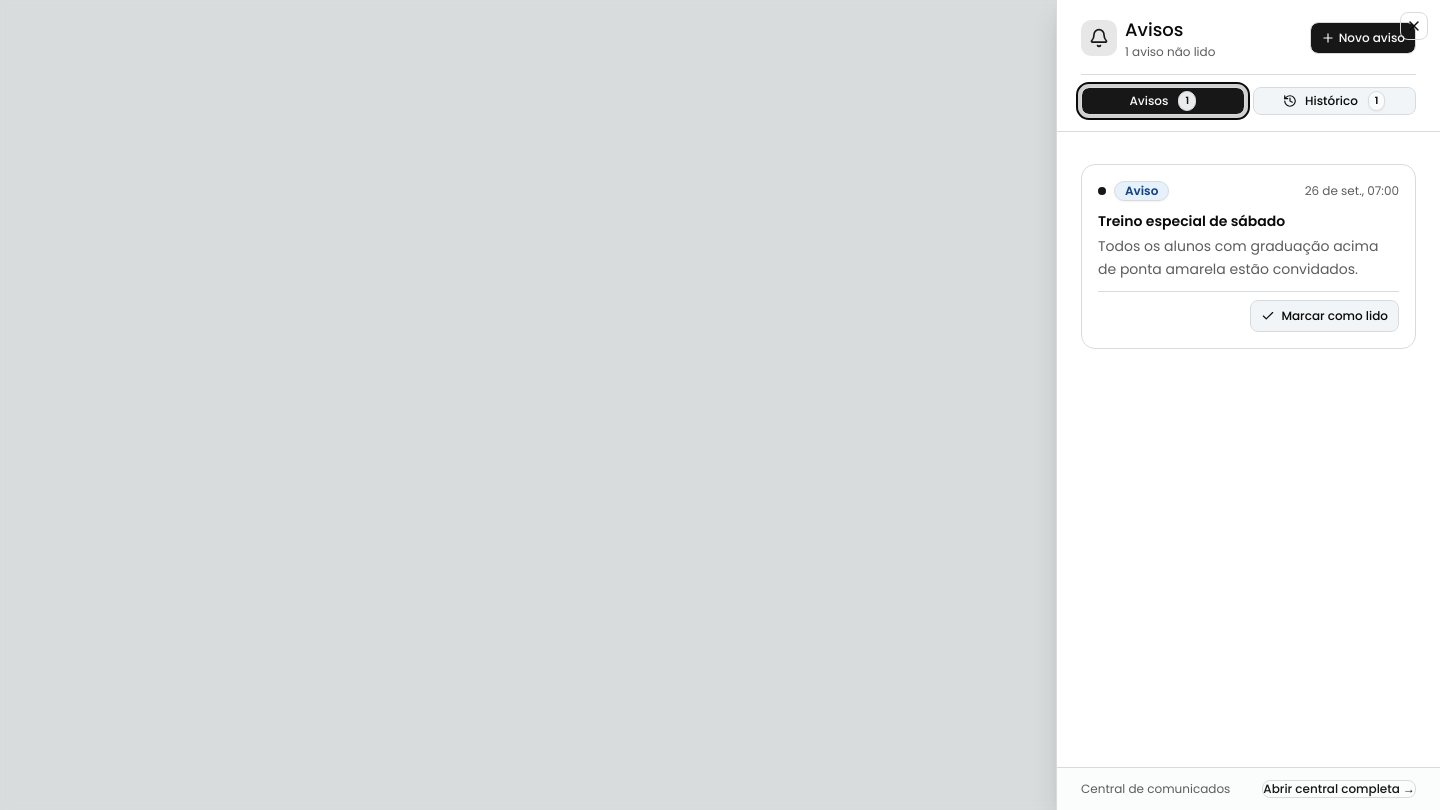
it: NotificationDrawer › removes notice from unread tab and moves it to history when marked as read
The width and height of the screenshot is (1440, 810).
What coordinates should you click on to do the following:
click the button "Marcar como lido"
I would click on:
 (1325, 316)
Its box is 1250,300 -> 1399,332.
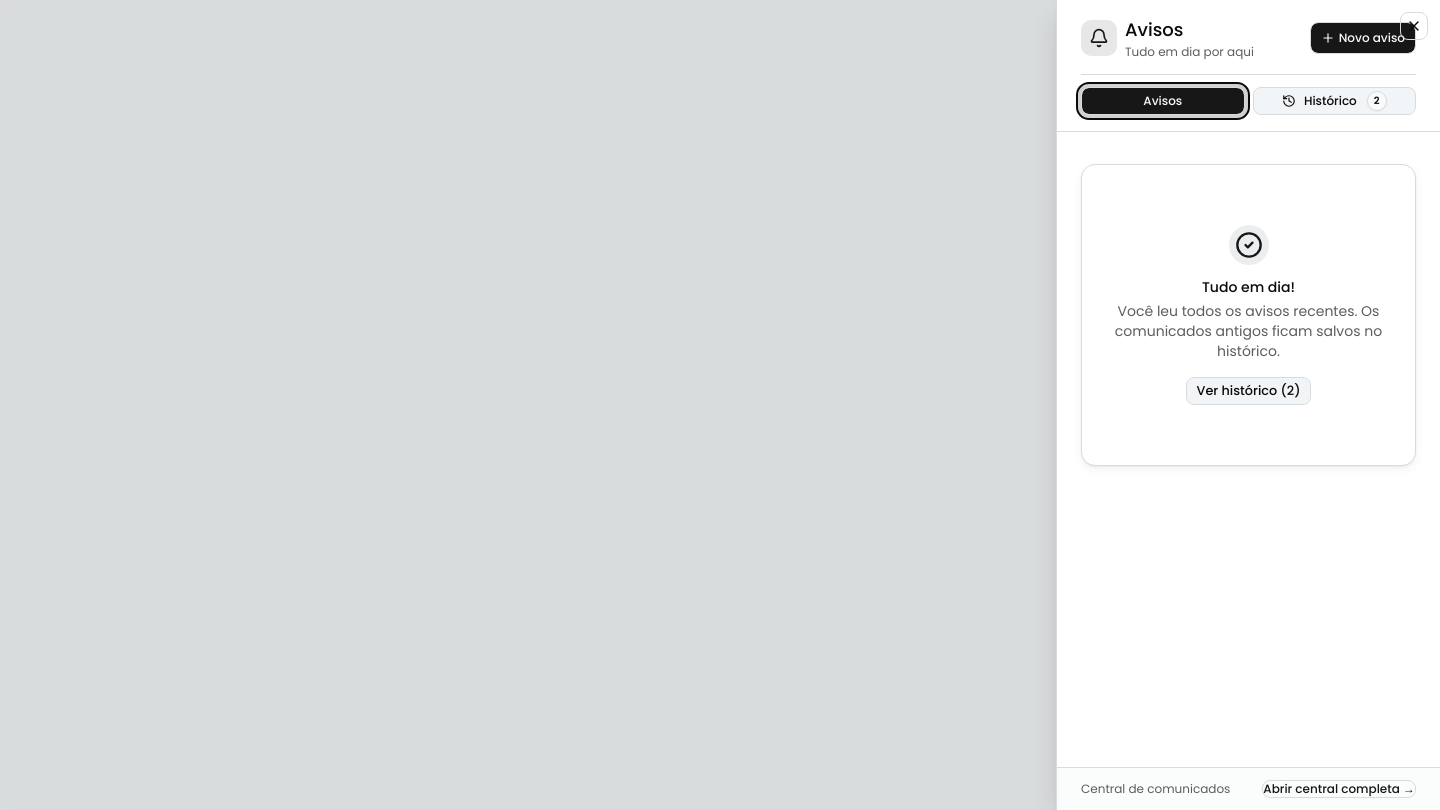
Result: the heading "Treino especial de sábado" is gone
Result: the heading "Tudo em dia!" is shown at 1202,277 -> 1295,297
// Click "Histórico" tab or action button
What coordinates should you click on to do the following:
click the button "Histórico 2"
I would click on:
 (1334, 101)
Its box is 1252,87 -> 1416,115.
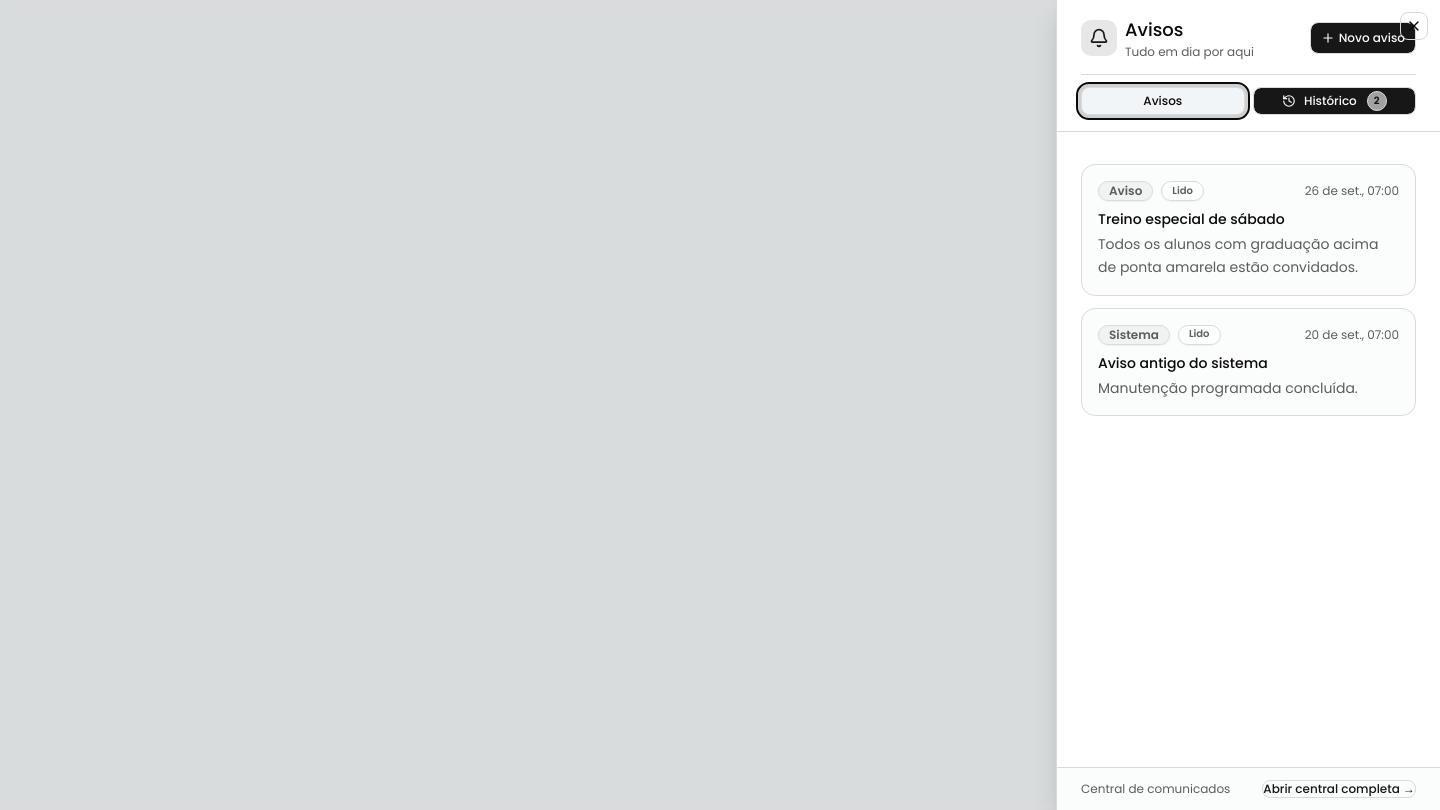
Result: the heading "Treino especial de sábado" is shown at 1098,209 -> 1285,229
Result: the heading "Aviso antigo do sistema" is shown at 1098,352 -> 1268,372
